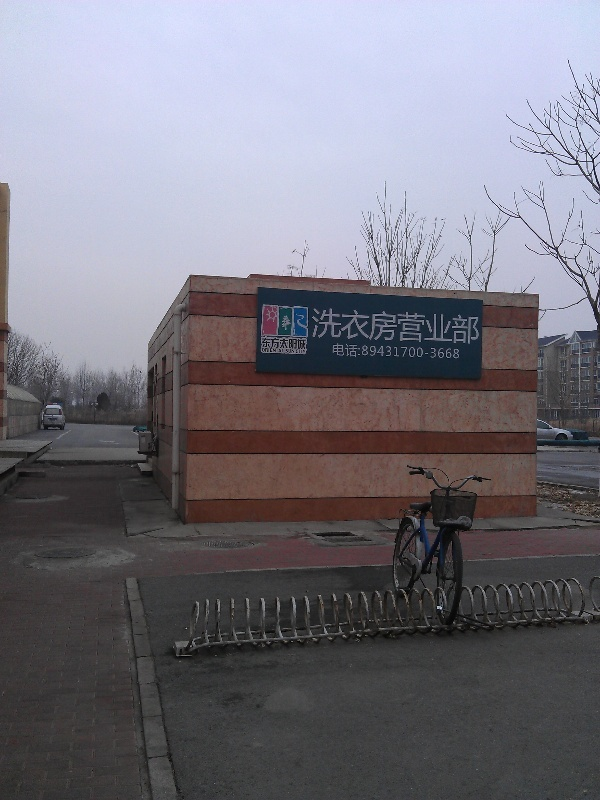text: (321, 308, 336, 345), (337, 308, 352, 345), (353, 308, 368, 345), (369, 308, 384, 345), (385, 308, 400, 345), (401, 308, 416, 345), (417, 308, 432, 345), (433, 308, 448, 345), (449, 308, 464, 345), (465, 308, 480, 345), (337, 343, 352, 362), (353, 343, 368, 362), (369, 343, 384, 362), (385, 343, 400, 362), (401, 343, 416, 362), (417, 343, 432, 362), (433, 343, 448, 362), (313, 308, 320, 345), (449, 343, 460, 362), (273, 337, 288, 350), (289, 337, 304, 350), (262, 337, 272, 350), (332, 343, 336, 362), (273, 348, 285, 353), (262, 348, 272, 353), (296, 350, 304, 354), (289, 349, 295, 354), (305, 337, 307, 350), (286, 349, 288, 354), (305, 350, 306, 354)
